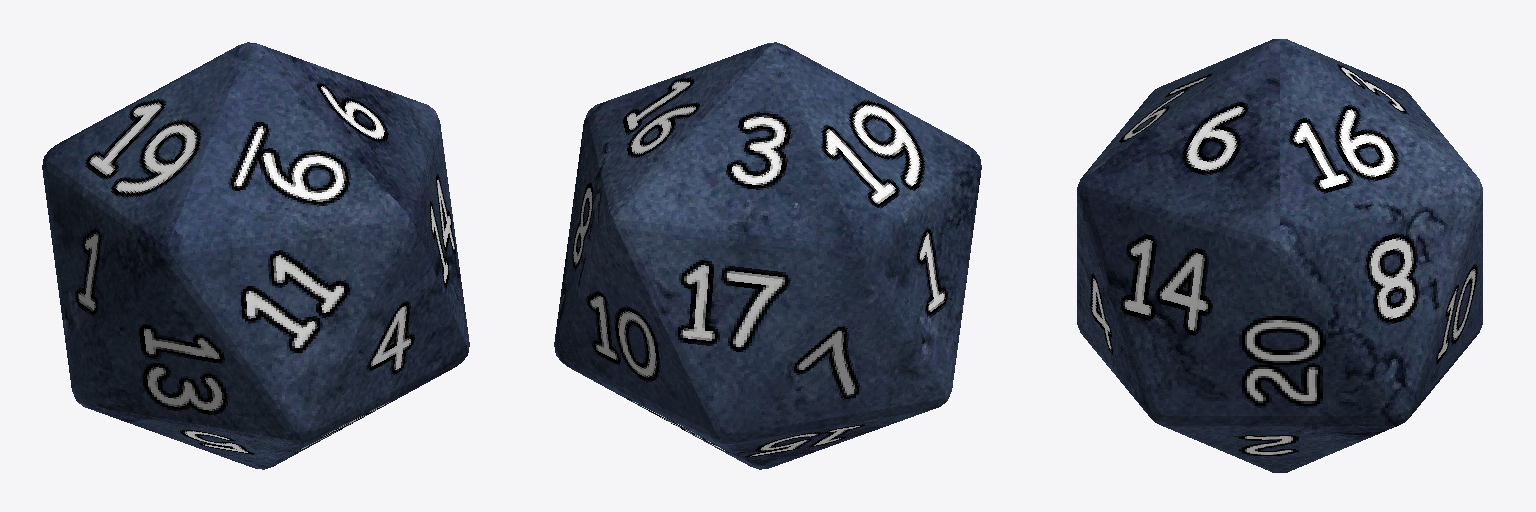
3 renders of one model, left to right at view 1: azimuth 30°, elevation 25°; view 2: azimuth 150°, elevation 25°; view 3: azimuth 270°, elevation 25°, orthographic.
Bounding box in the file's own units: 6.81 × 7.65 × 6.61.
1 materials, 1 textured.